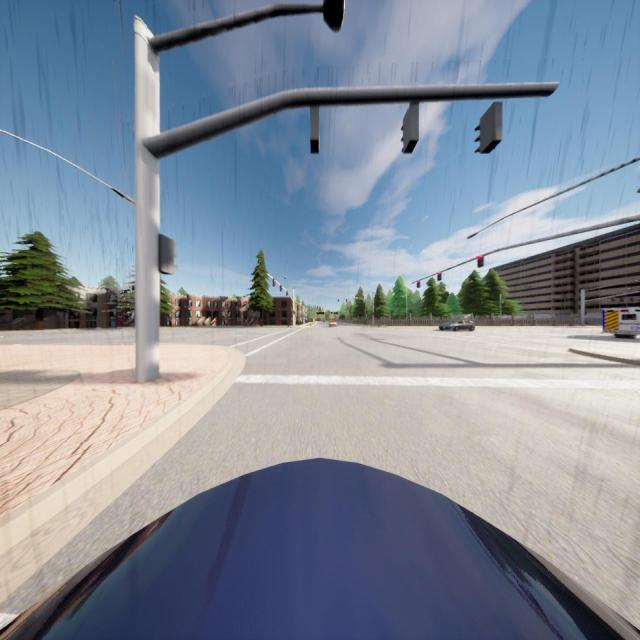Vehicle: (3, 456, 640, 640), (601, 306, 640, 339), (438, 316, 476, 332), (329, 318, 337, 328)
traffic_light: (474, 101, 502, 153), (402, 98, 419, 154), (159, 234, 178, 274), (310, 102, 319, 153), (477, 256, 484, 267), (437, 272, 442, 281), (272, 279, 275, 287), (417, 280, 420, 288), (280, 285, 282, 292), (286, 290, 288, 296), (622, 296, 624, 302), (632, 296, 634, 302), (585, 309, 587, 315), (337, 298, 339, 302), (372, 311, 374, 315), (346, 299, 347, 302)
